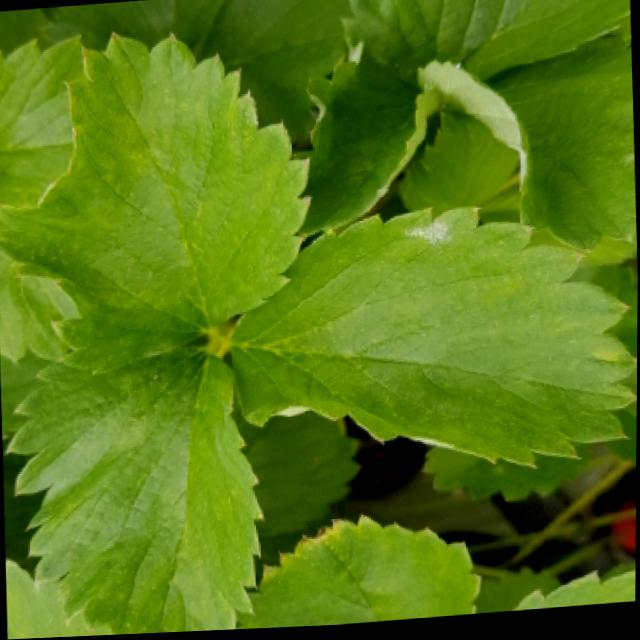Powdery Mildew Leaf: (223, 207, 638, 473)
